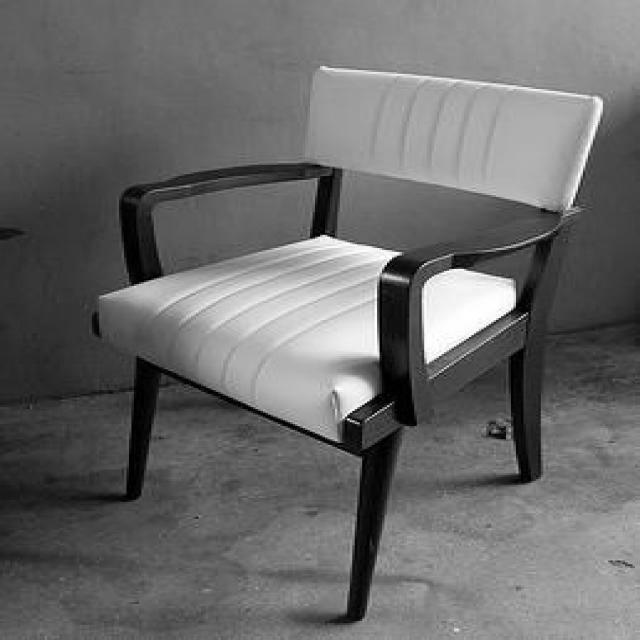chair: (89, 65, 606, 622)
